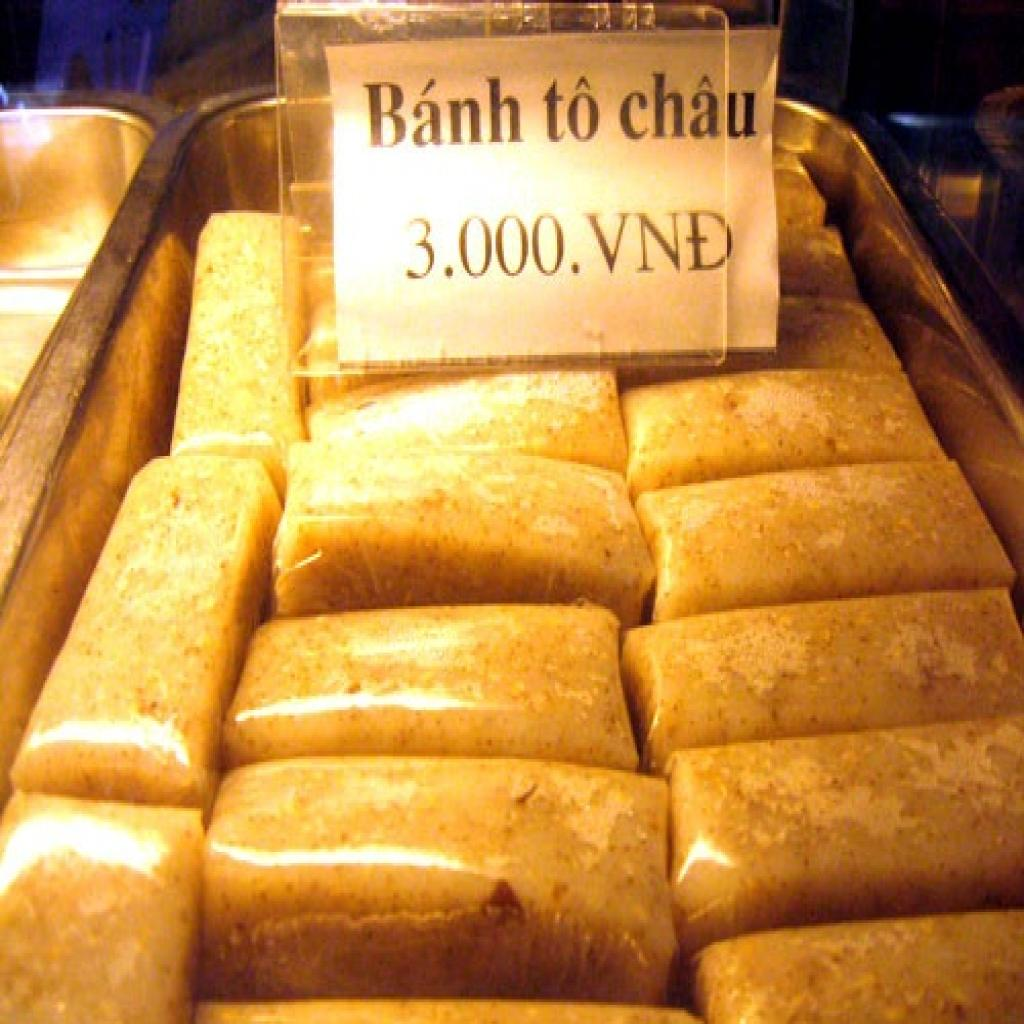text: (354, 57, 526, 156), (397, 208, 590, 286), (614, 66, 762, 156), (535, 66, 606, 150)
